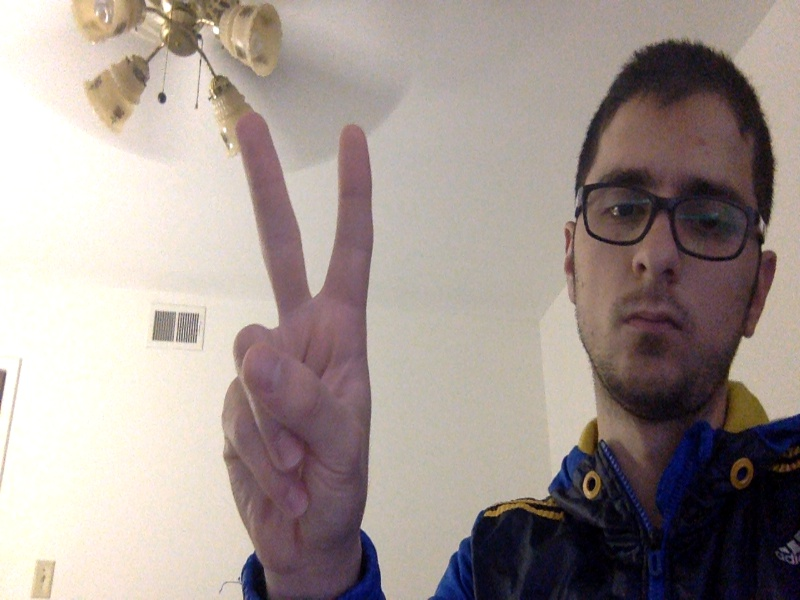2-hand: (225, 112, 376, 555)
